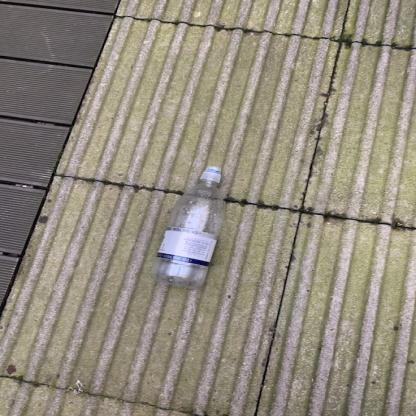trash: (151, 165, 227, 291)
